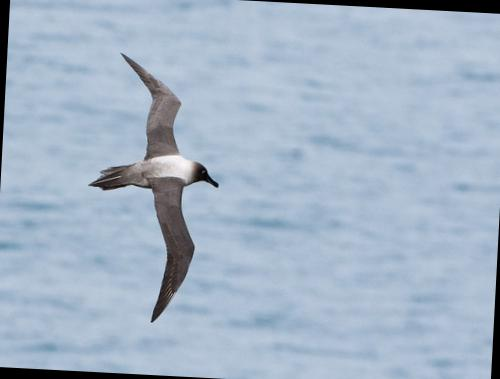bird: (68, 37, 240, 333)
